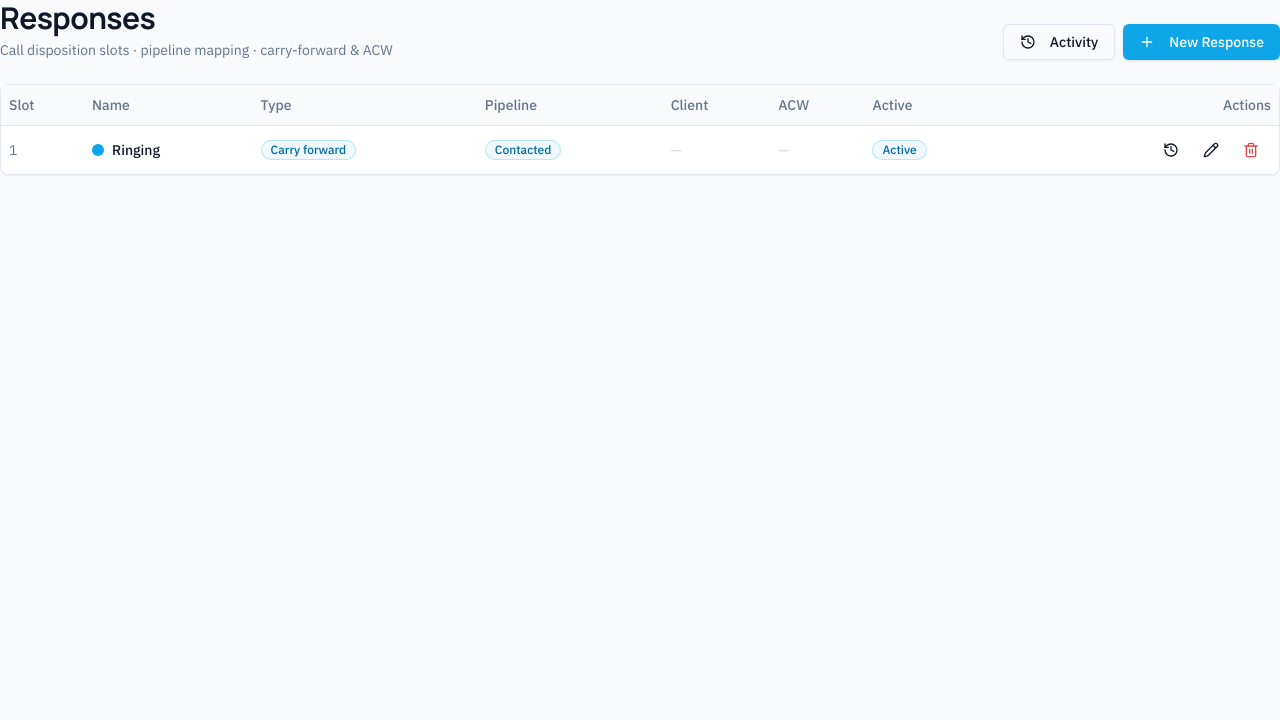
Test: Dispositions activity history › opens per-row history sheet with field diffs
The width and height of the screenshot is (1280, 720).
Click the button with test id "disp-history-disp-1": (1171, 150) [1151, 134, 1191, 166]
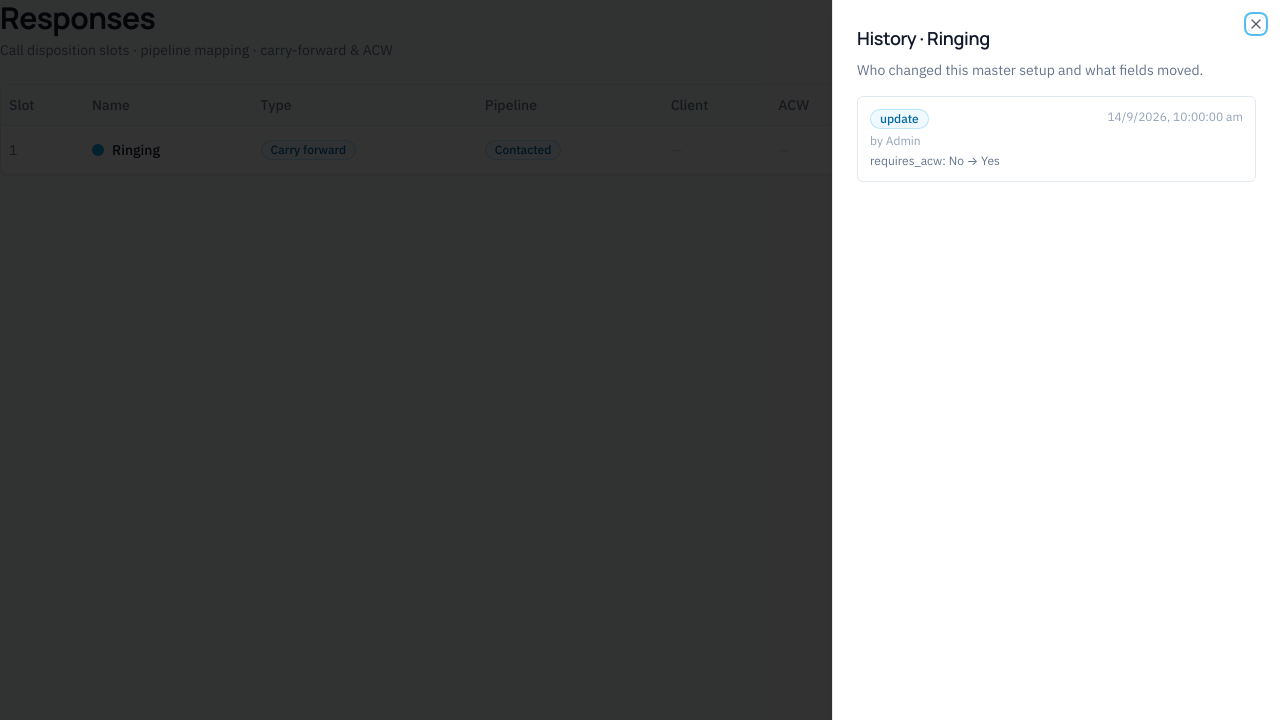
Check: the dialog with test id "disp-activity-sheet" is shown, box [832, 0, 1279, 719]
Check: the element with test id "disp-activity-row-log-row-1" is shown, box [857, 96, 1256, 182]
Check: the text "requires_acw: No → Yes" is shown, box [870, 153, 1000, 168]
